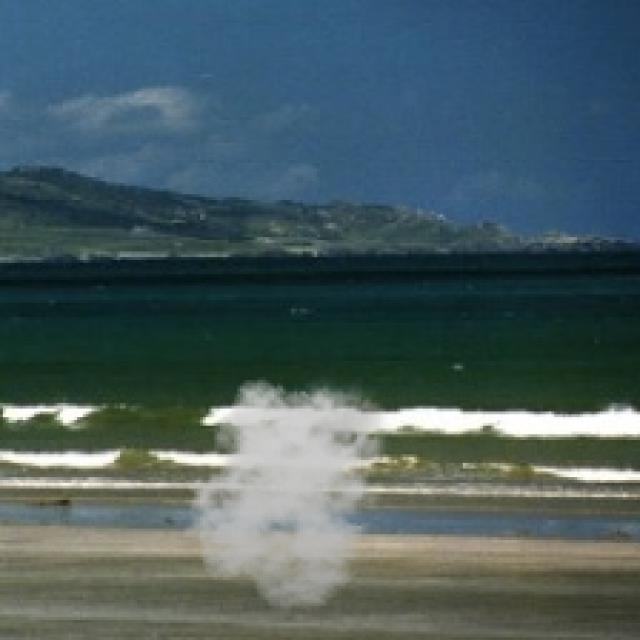smoke: (183, 372, 397, 612)
